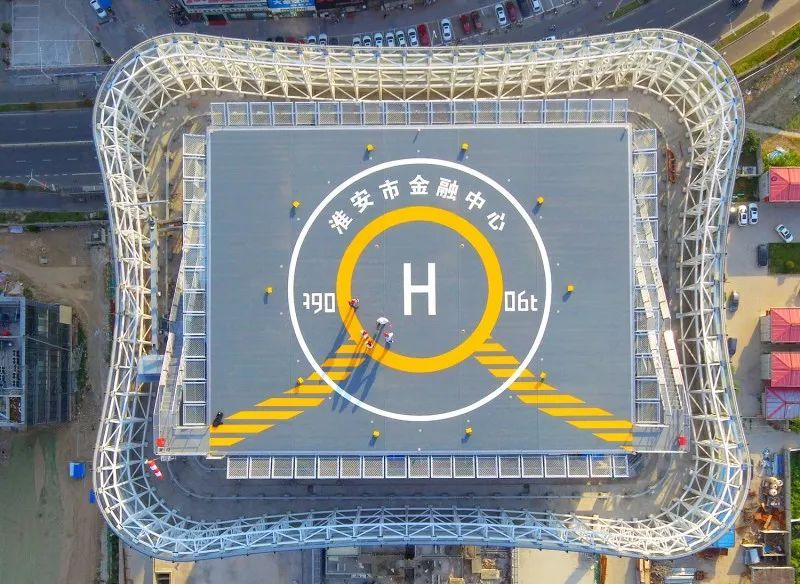Apron: (336, 205, 504, 375)
